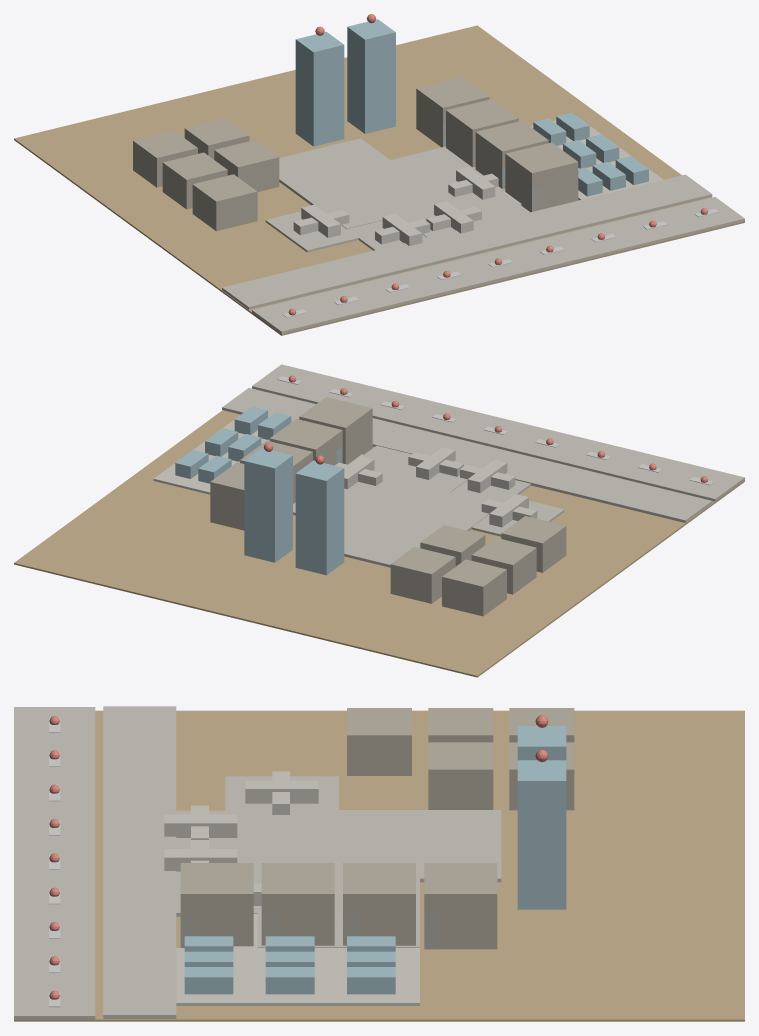
Rendered from stage_25.glb.
The picture shows the model from 3 angles, top to bottom: view 1: azimuth 30°, elevation 25°; view 2: azimuth 150°, elevation 25°; view 3: azimuth 270°, elevation 25°; orthographic projection. The views are drawn at different scales.
Parts seen in each view (by area): view 1: geometry_0; view 2: geometry_0; view 3: geometry_0.
Part boxes in pixels (box(x1,y1,x2,y2)): geometry_0: box(14, 14, 744, 335); geometry_0: box(14, 364, 744, 677); geometry_0: box(14, 706, 744, 1021).
Size of the model in its own units: 9 by 2.06 by 9.
